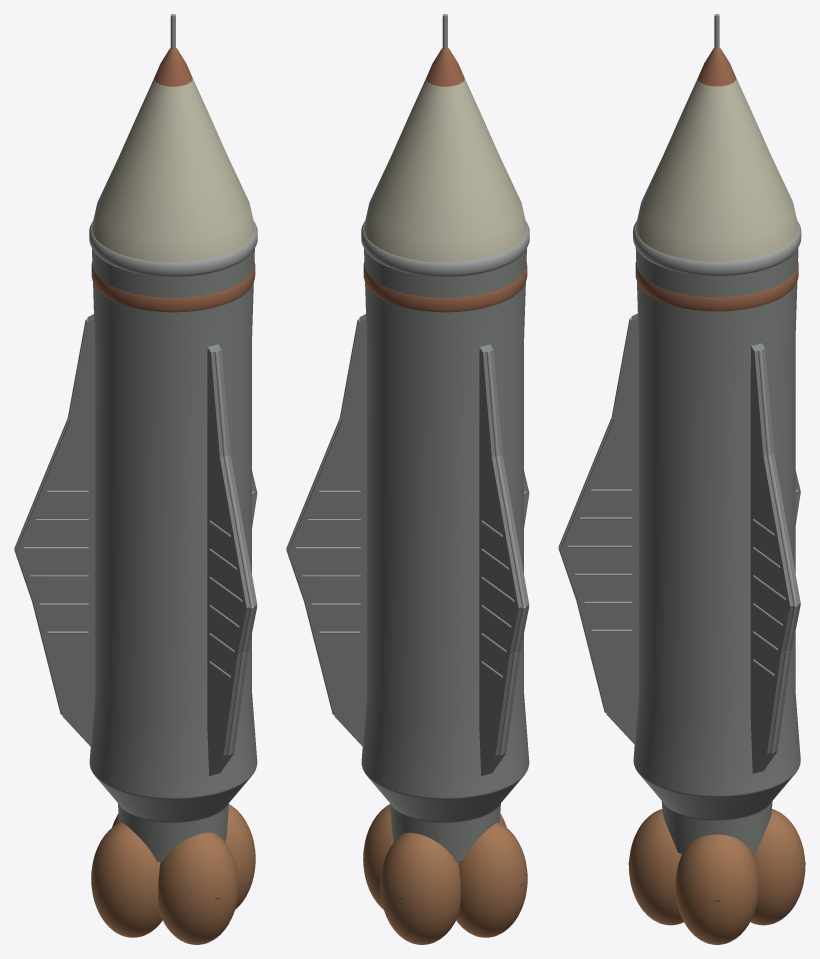
3 renders of one model, left to right at view 1: azimuth 30°, elevation 25°; view 2: azimuth 150°, elevation 25°; view 3: azimuth 270°, elevation 25°, orthographic.
Visible parts, largest first — view 1: Mega cylindrical pressure casing, Mega ivory nose cone, Mega solid diamond vane.002, Mega solid diamond vane, Research directional thrust chamber 3, Research directional thrust chamber 2, Mega upper silver nose collar, Mega copper nose retaining band, Research directional thrust chamber 0, Mega copper nose tip, Mega vane edge rail.001; view 2: Mega cylindrical pressure casing, Mega ivory nose cone, Mega solid diamond vane.001, Mega solid diamond vane.002, Research directional thrust chamber 1, Research directional thrust chamber 2, Mega upper silver nose collar, Mega copper nose retaining band, Research directional thrust chamber 0, Mega copper nose tip, Mega vane edge rail.009; view 3: Mega cylindrical pressure casing, Mega ivory nose cone, Mega solid diamond vane, Mega solid diamond vane.001, Research directional thrust chamber 0, Research directional thrust chamber 3, Research directional thrust chamber 1, Mega upper silver nose collar, Mega copper nose retaining band, Mega copper nose tip, Mega vane edge rail.005.
Boxes of the visible parts, x1=… form: Mega cylindrical pressure casing: x1=89, y1=248, x2=257, y2=861; Mega ivory nose cone: x1=92, y1=78, x2=254, y2=262; Mega solid diamond vane.002: x1=16, y1=314, x2=95, y2=746; Mega solid diamond vane: x1=207, y1=344, x2=257, y2=775; Research directional thrust chamber 3: x1=158, y1=832, x2=238, y2=944; Research directional thrust chamber 2: x1=91, y1=822, x2=162, y2=937; Mega upper silver nose collar: x1=89, y1=221, x2=257, y2=276; Mega copper nose retaining band: x1=91, y1=262, x2=255, y2=312; Research directional thrust chamber 0: x1=225, y1=804, x2=255, y2=909; Mega copper nose tip: x1=154, y1=48, x2=192, y2=86; Mega vane edge rail.001: x1=223, y1=456, x2=253, y2=607; Mega cylindrical pressure casing: x1=361, y1=248, x2=529, y2=861; Mega ivory nose cone: x1=364, y1=78, x2=526, y2=262; Mega solid diamond vane.001: x1=288, y1=314, x2=366, y2=746; Mega solid diamond vane.002: x1=479, y1=344, x2=529, y2=775; Research directional thrust chamber 1: x1=380, y1=832, x2=460, y2=944; Research directional thrust chamber 2: x1=456, y1=822, x2=527, y2=937; Mega upper silver nose collar: x1=361, y1=221, x2=529, y2=276; Mega copper nose retaining band: x1=363, y1=262, x2=527, y2=312; Research directional thrust chamber 0: x1=363, y1=804, x2=393, y2=909; Mega copper nose tip: x1=426, y1=48, x2=464, y2=86; Mega vane edge rail.009: x1=495, y1=456, x2=525, y2=607; Mega cylindrical pressure casing: x1=633, y1=247, x2=800, y2=854; Mega ivory nose cone: x1=636, y1=78, x2=798, y2=261; Mega solid diamond vane: x1=560, y1=313, x2=638, y2=744; Mega solid diamond vane.001: x1=750, y1=343, x2=800, y2=773; Research directional thrust chamber 0: x1=675, y1=834, x2=758, y2=944; Research directional thrust chamber 3: x1=629, y1=809, x2=683, y2=925; Research directional thrust chamber 1: x1=750, y1=809, x2=805, y2=925; Mega upper silver nose collar: x1=633, y1=221, x2=801, y2=276; Mega copper nose retaining band: x1=635, y1=261, x2=798, y2=311; Mega copper nose tip: x1=698, y1=48, x2=736, y2=86; Mega vane edge rail.005: x1=767, y1=455, x2=797, y2=605.
Bounding box in the file's own units: 1.79 × 6.46 × 1.6.
